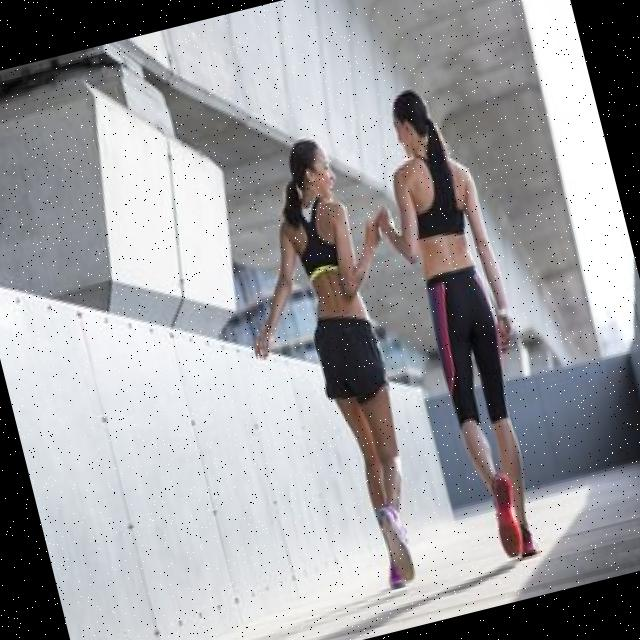Person: (207, 126, 467, 605), (351, 78, 570, 574)
